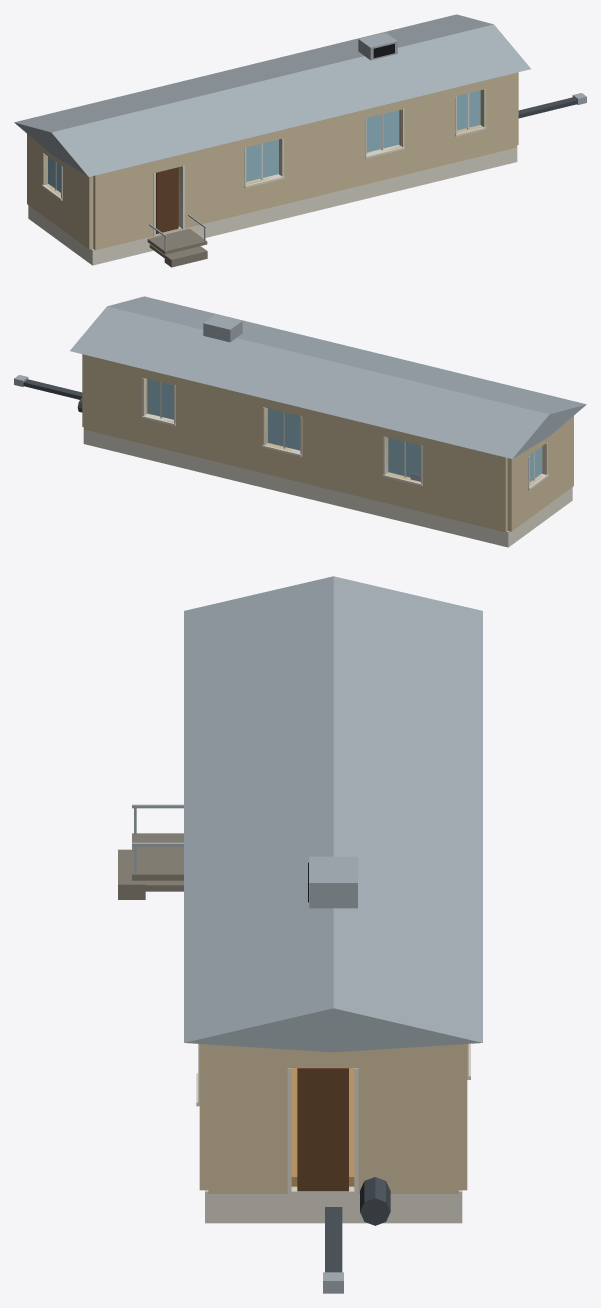
The model's file is GB_Trailer_01.glb.
3 views of the same model, one above another, from view 1: azimuth 30°, elevation 25°; view 2: azimuth 150°, elevation 25°; view 3: azimuth 270°, elevation 25° (orthographic). The views are drawn at different scales.
Visible parts, largest first — view 1: GB_Trailer_01; view 2: GB_Trailer_01; view 3: GB_Trailer_01.
Boxes of the visible parts, x1,y1,x2,y2 form: GB_Trailer_01: [14, 14, 586, 267]; GB_Trailer_01: [14, 296, 586, 547]; GB_Trailer_01: [118, 576, 482, 1293].
Bounding box in the file's own units: 17.7 × 3.95 × 5.25.
Materials: 1 (1 with a texture image).
